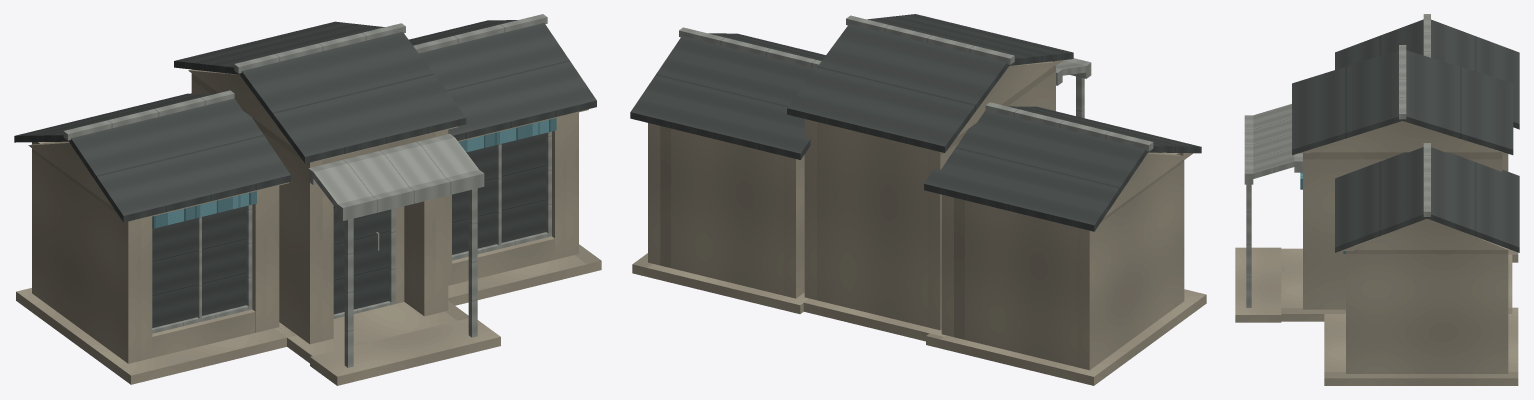
3 renders of one model, left to right at view 1: azimuth 30°, elevation 25°; view 2: azimuth 150°, elevation 25°; view 3: azimuth 270°, elevation 25°, orthographic. The views are drawn at different scales.
Visible parts, largest first — view 1: brasilia; view 2: brasilia; view 3: brasilia.
Part boxes in pixels (x1,y1,x2,y2): brasilia: (14,14,601,385); brasilia: (630,14,1206,385); brasilia: (1235,14,1519,385).
Bounding box in the file's own units: 7.48 × 3.7 × 4.54.
Materials: 1 (1 with a texture image).
